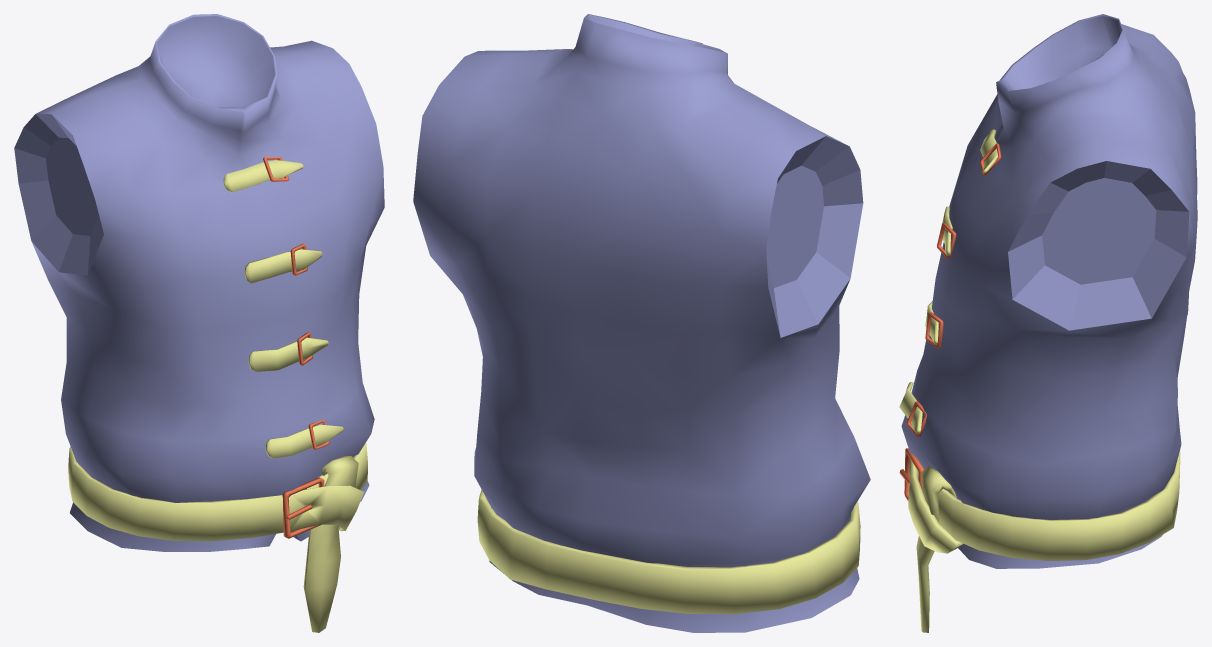
The model's file is LeatherChest.FBX.
The picture shows the model from 3 angles, left to right: view 1: azimuth 30°, elevation 25°; view 2: azimuth 150°, elevation 25°; view 3: azimuth 270°, elevation 25°; orthographic projection. The views are drawn at different scales.
Parts seen in each view (by area): view 1: Tops; view 2: Tops; view 3: Tops.
Boxes of the visible parts, x1,y1,x2,y2 form: Tops: [14, 14, 384, 632]; Tops: [413, 14, 870, 632]; Tops: [899, 14, 1197, 632].
Size of the model in its own units: 42.21 by 76.58 by 35.28.
